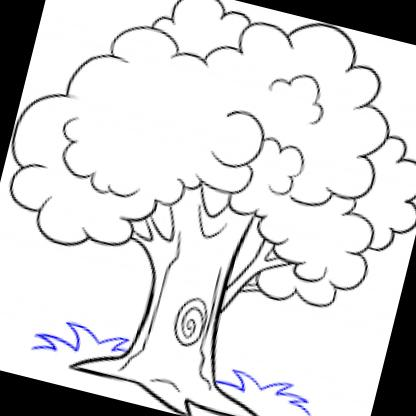branch_cut: (124, 170, 302, 288)
crown_cloud: (0, 0, 416, 330)
knot: (167, 294, 212, 352)
root_only: (68, 340, 272, 416)
trunk_bark: (129, 288, 230, 374)
